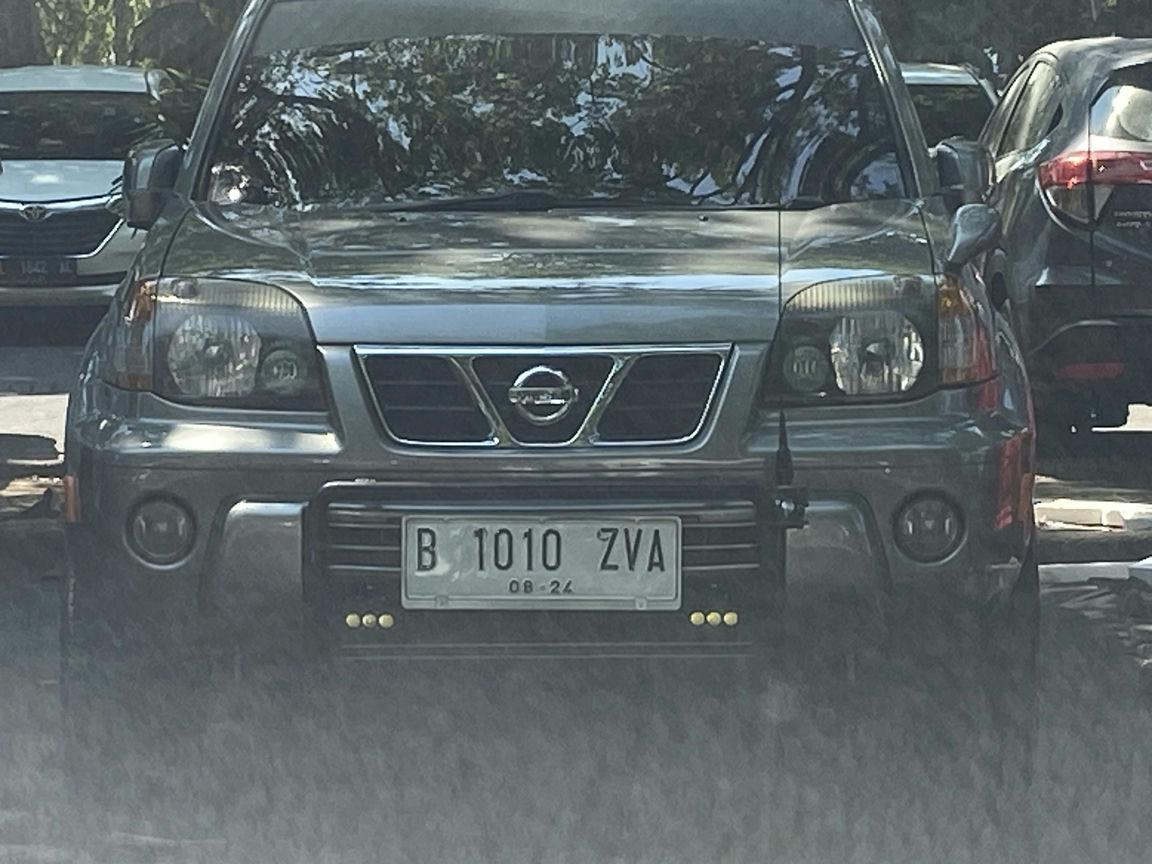plat: (400, 515, 682, 610)
